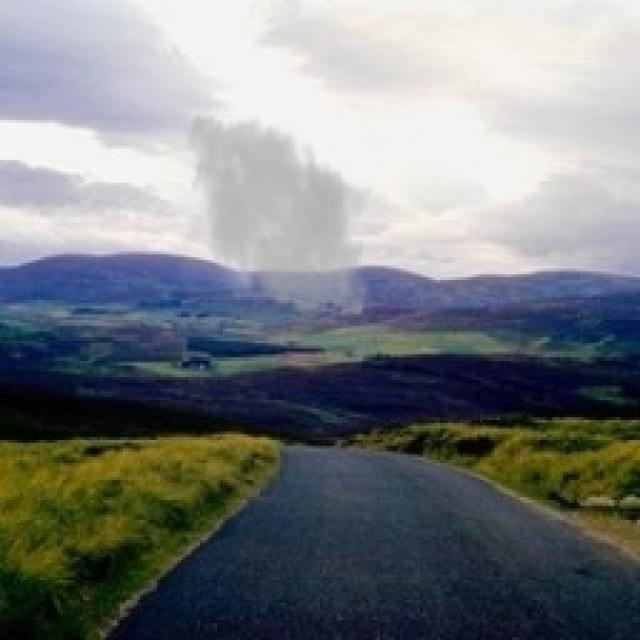smoke: (172, 106, 388, 326)
